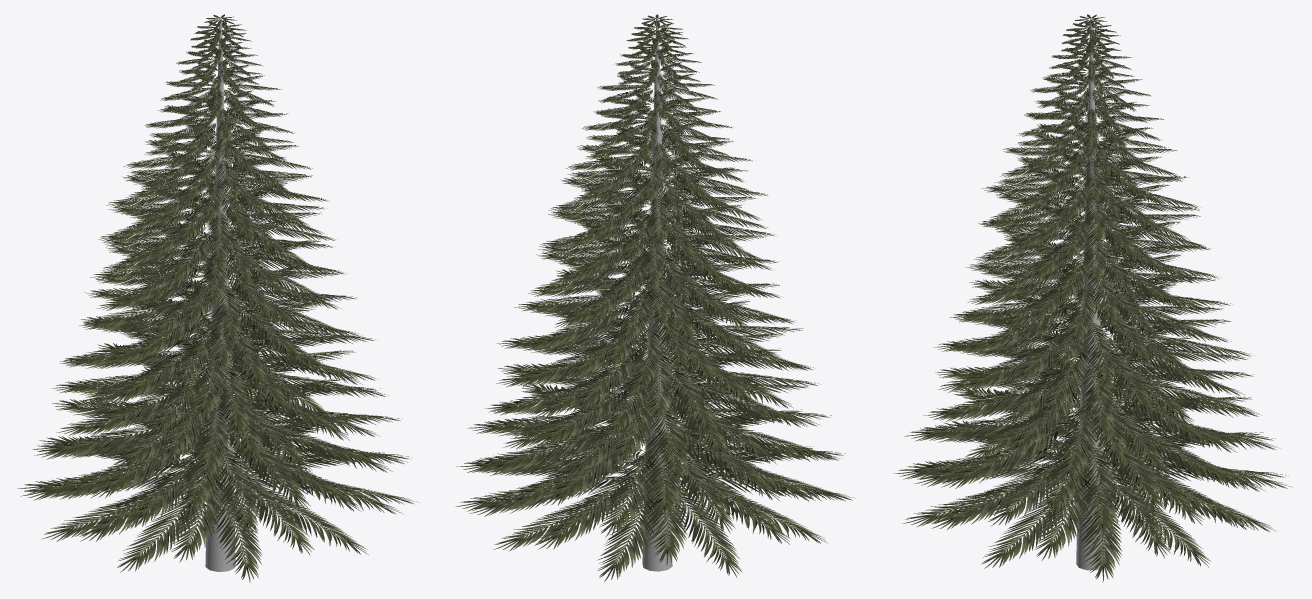
Rendered from tree.fbx.
3 renders of one model, left to right at view 1: azimuth 30°, elevation 25°; view 2: azimuth 150°, elevation 25°; view 3: azimuth 270°, elevation 25°, orthographic.
Parts seen in each view (by area): view 1: polySurface143; view 2: polySurface143; view 3: polySurface143.
Boxes of the visible parts, <box> form: polySurface143: <box>17,14,419,582</box>; polySurface143: <box>455,14,855,581</box>; polySurface143: <box>893,14,1292,582</box>.
Size of the model in its own units: 1201 by 1771 by 1200.
